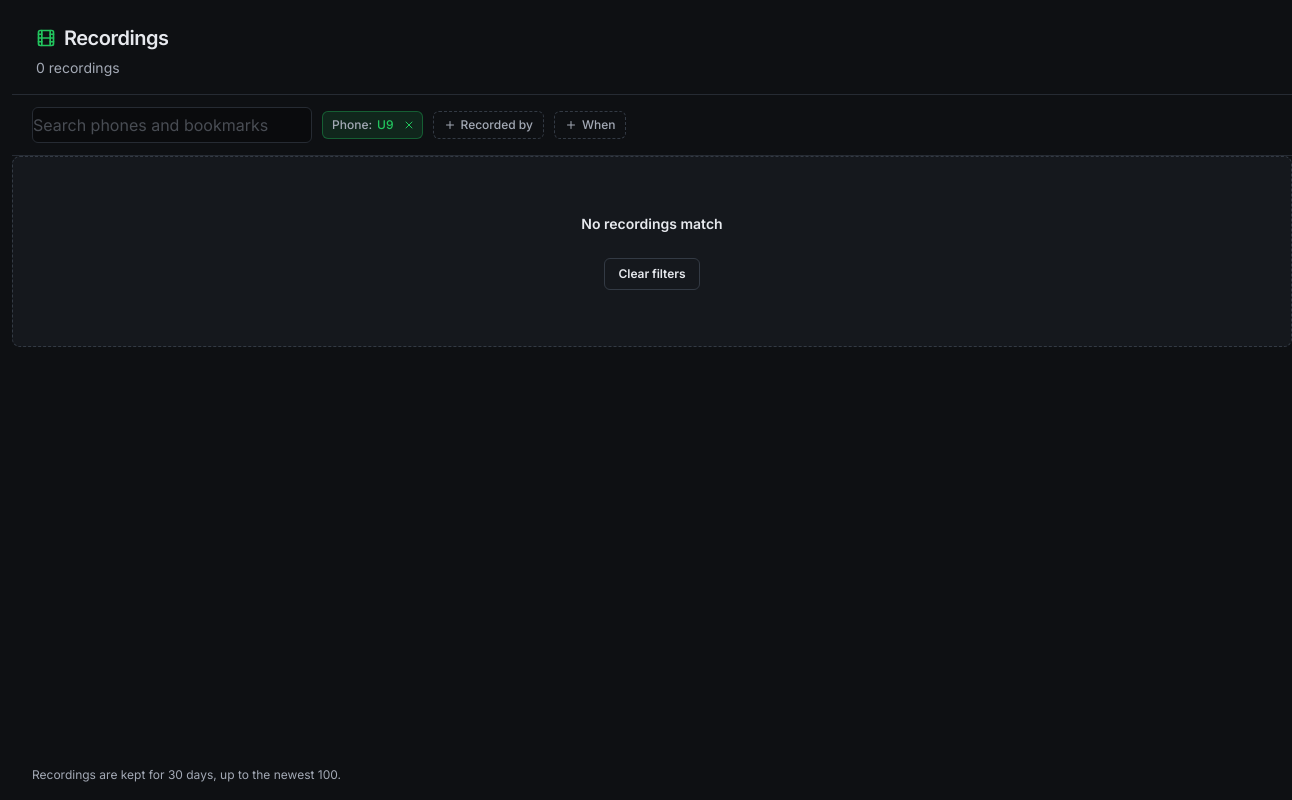
Test: RecordingsPage › shows "No recordings match" when filtered to zero rows, and Clear filters resets the URL
The width and height of the screenshot is (1292, 800).
expect the text "No recordings match" is shown: met, box [581,213,723,234]
Click the button "Clear filters".
click(652, 274)  # box [604,258,700,290]
(page scrolled)
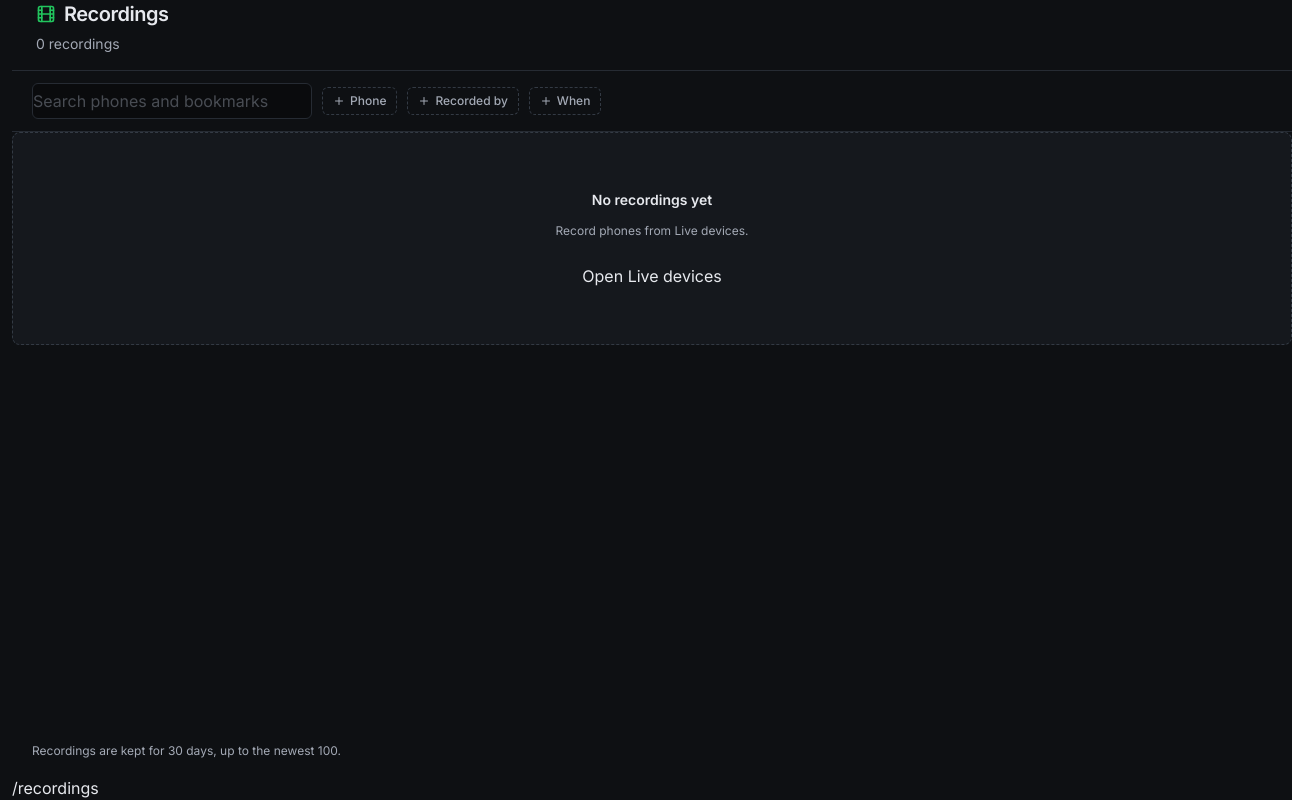
expect the text with test id "where" reads "/recordings": met, box [12,778,99,798]
